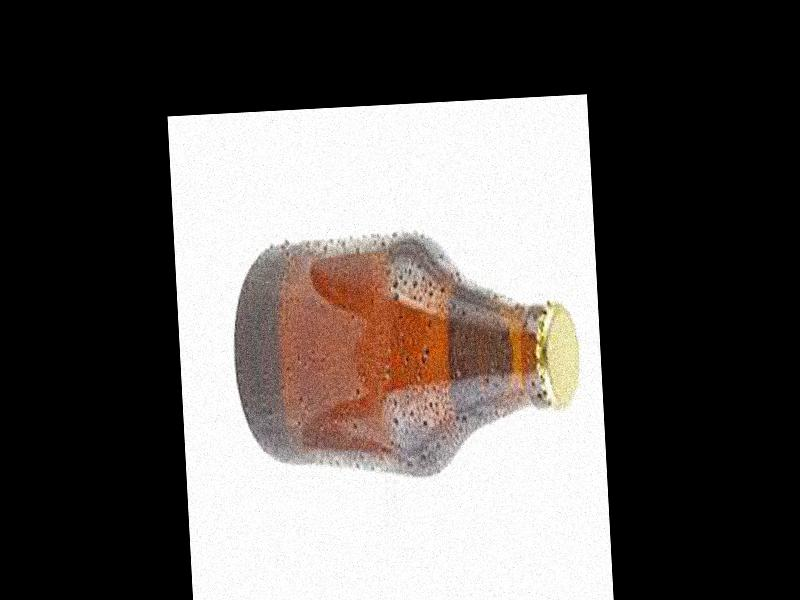Beer: (230, 230, 583, 468)
